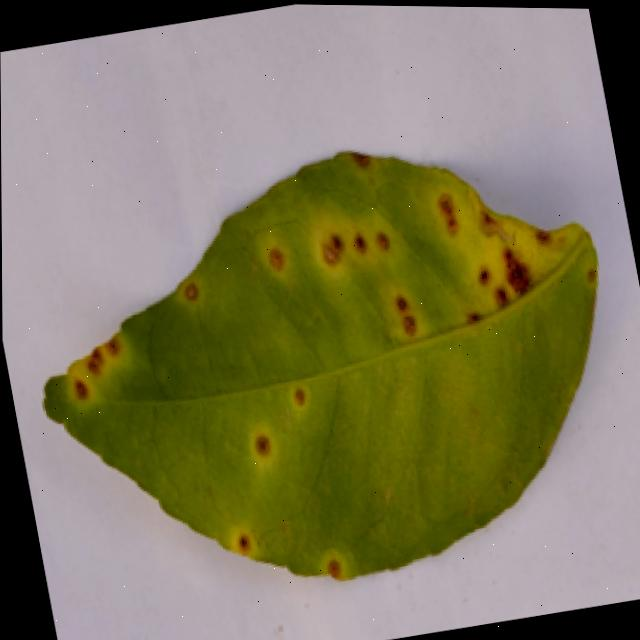canker: (45, 154, 596, 578), (220, 153, 580, 389), (42, 295, 137, 419), (304, 525, 352, 602), (224, 510, 263, 571), (239, 413, 274, 470), (166, 265, 207, 313), (279, 373, 313, 417)
